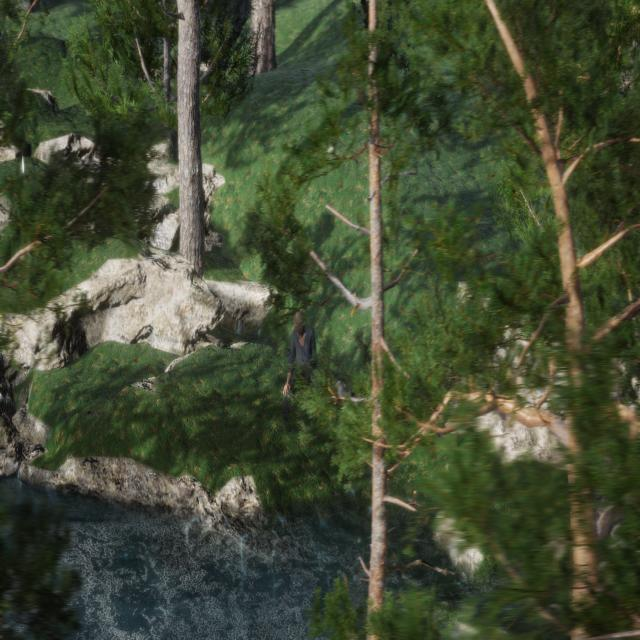Human: (272, 302, 363, 435)
